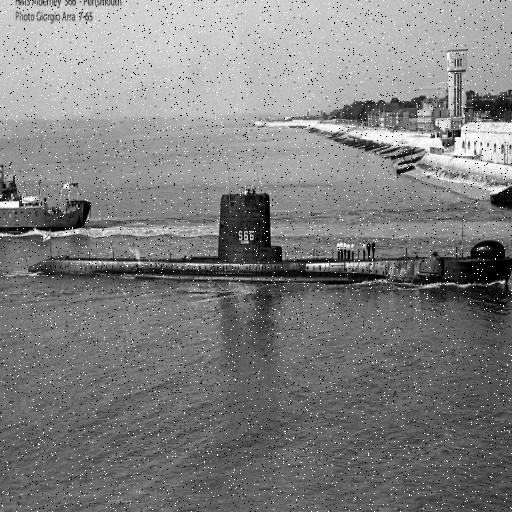submarine: (30, 192, 512, 283)
